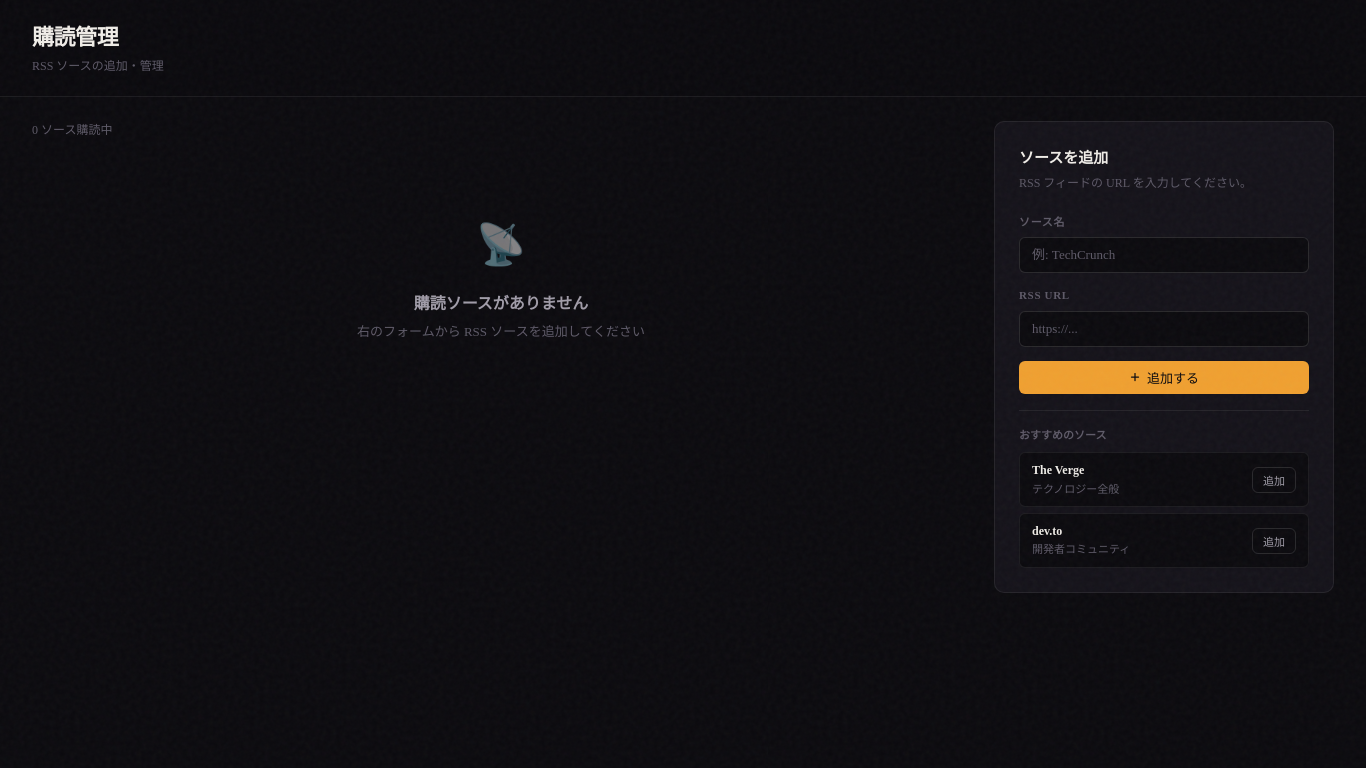
Scenario: AddSubscriptionForm — client-side validation › Given 409 response, shows "この URL は登録済みです" and preserves input values
Type "https://example.com/rss" into the field labelled "RSS URL" at (1164, 329), box [1019,311,1309,347]
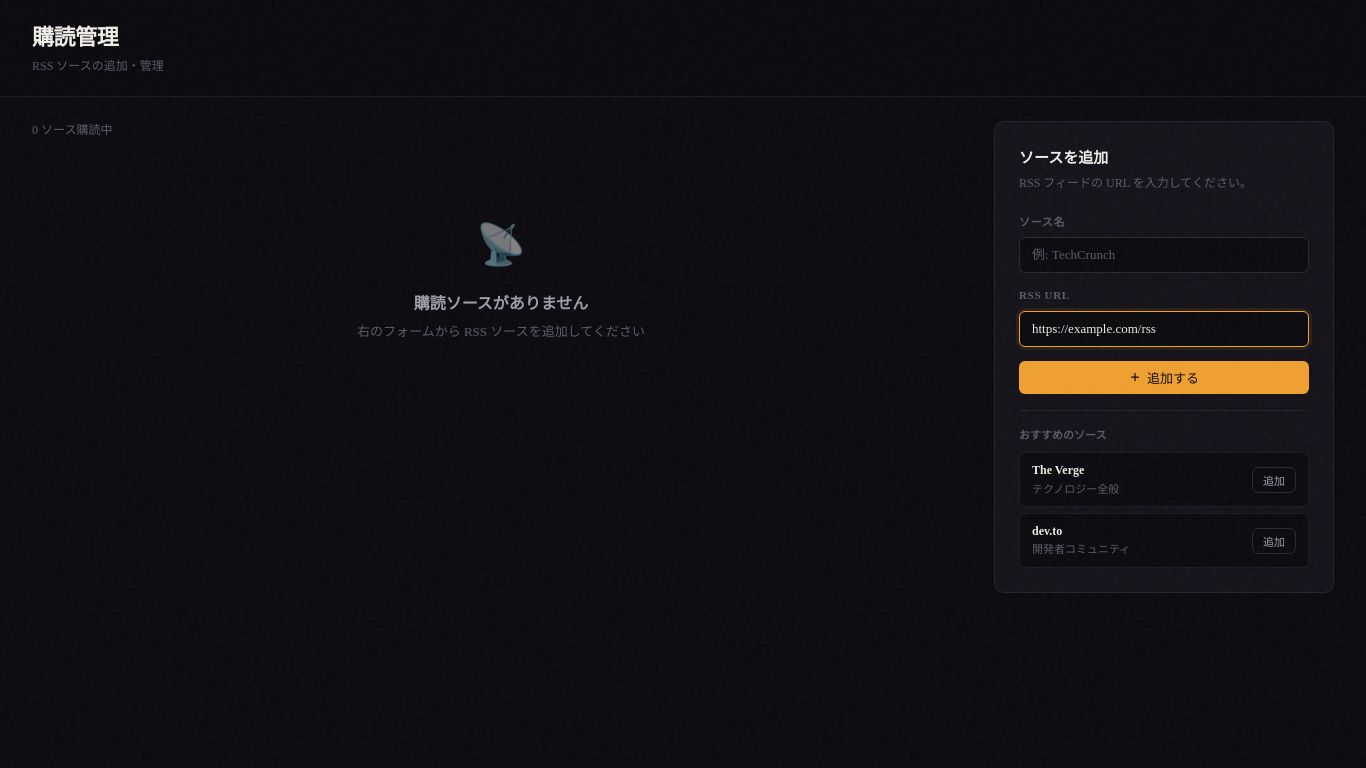
Click the button "追加する" at (1164, 377), box [1019,361,1309,394]
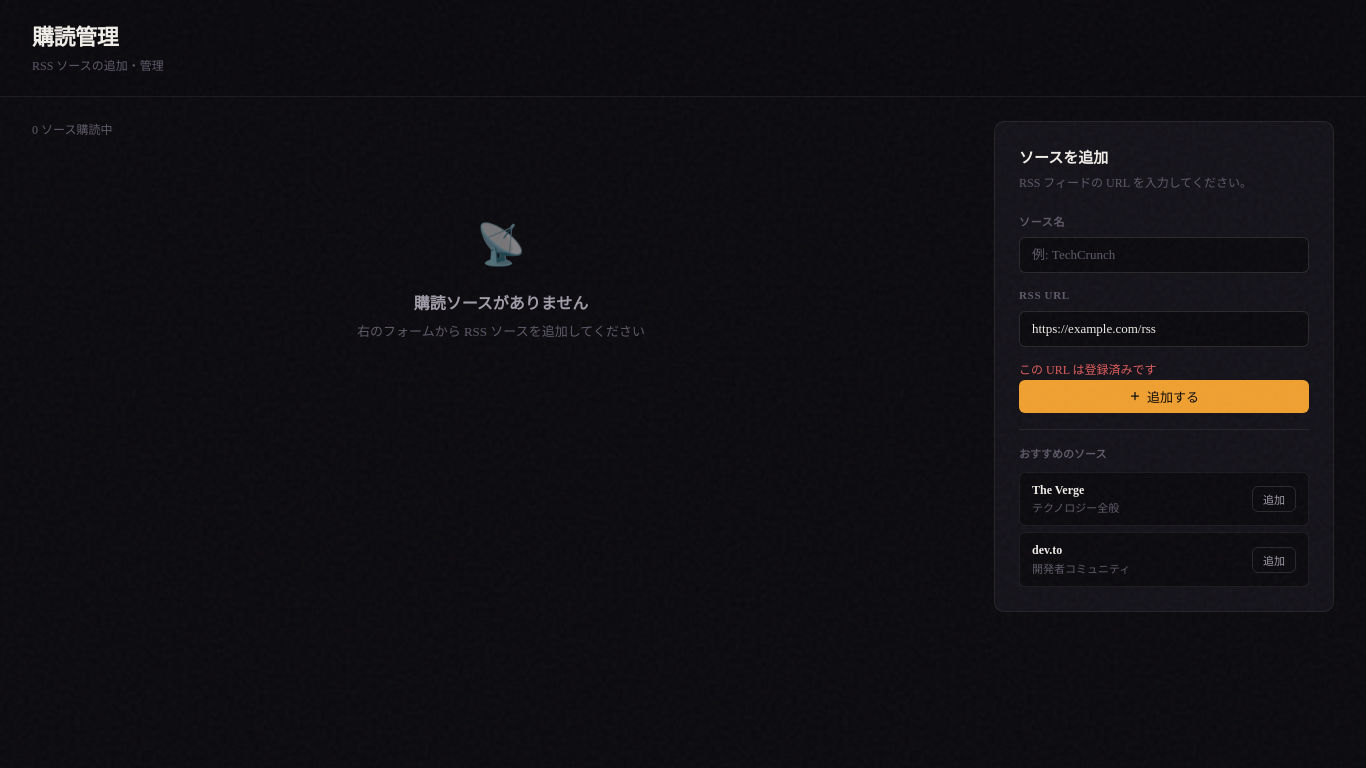
expect the text "この URL は登録済みです" is shown: met, box [1019,363,1157,377]
